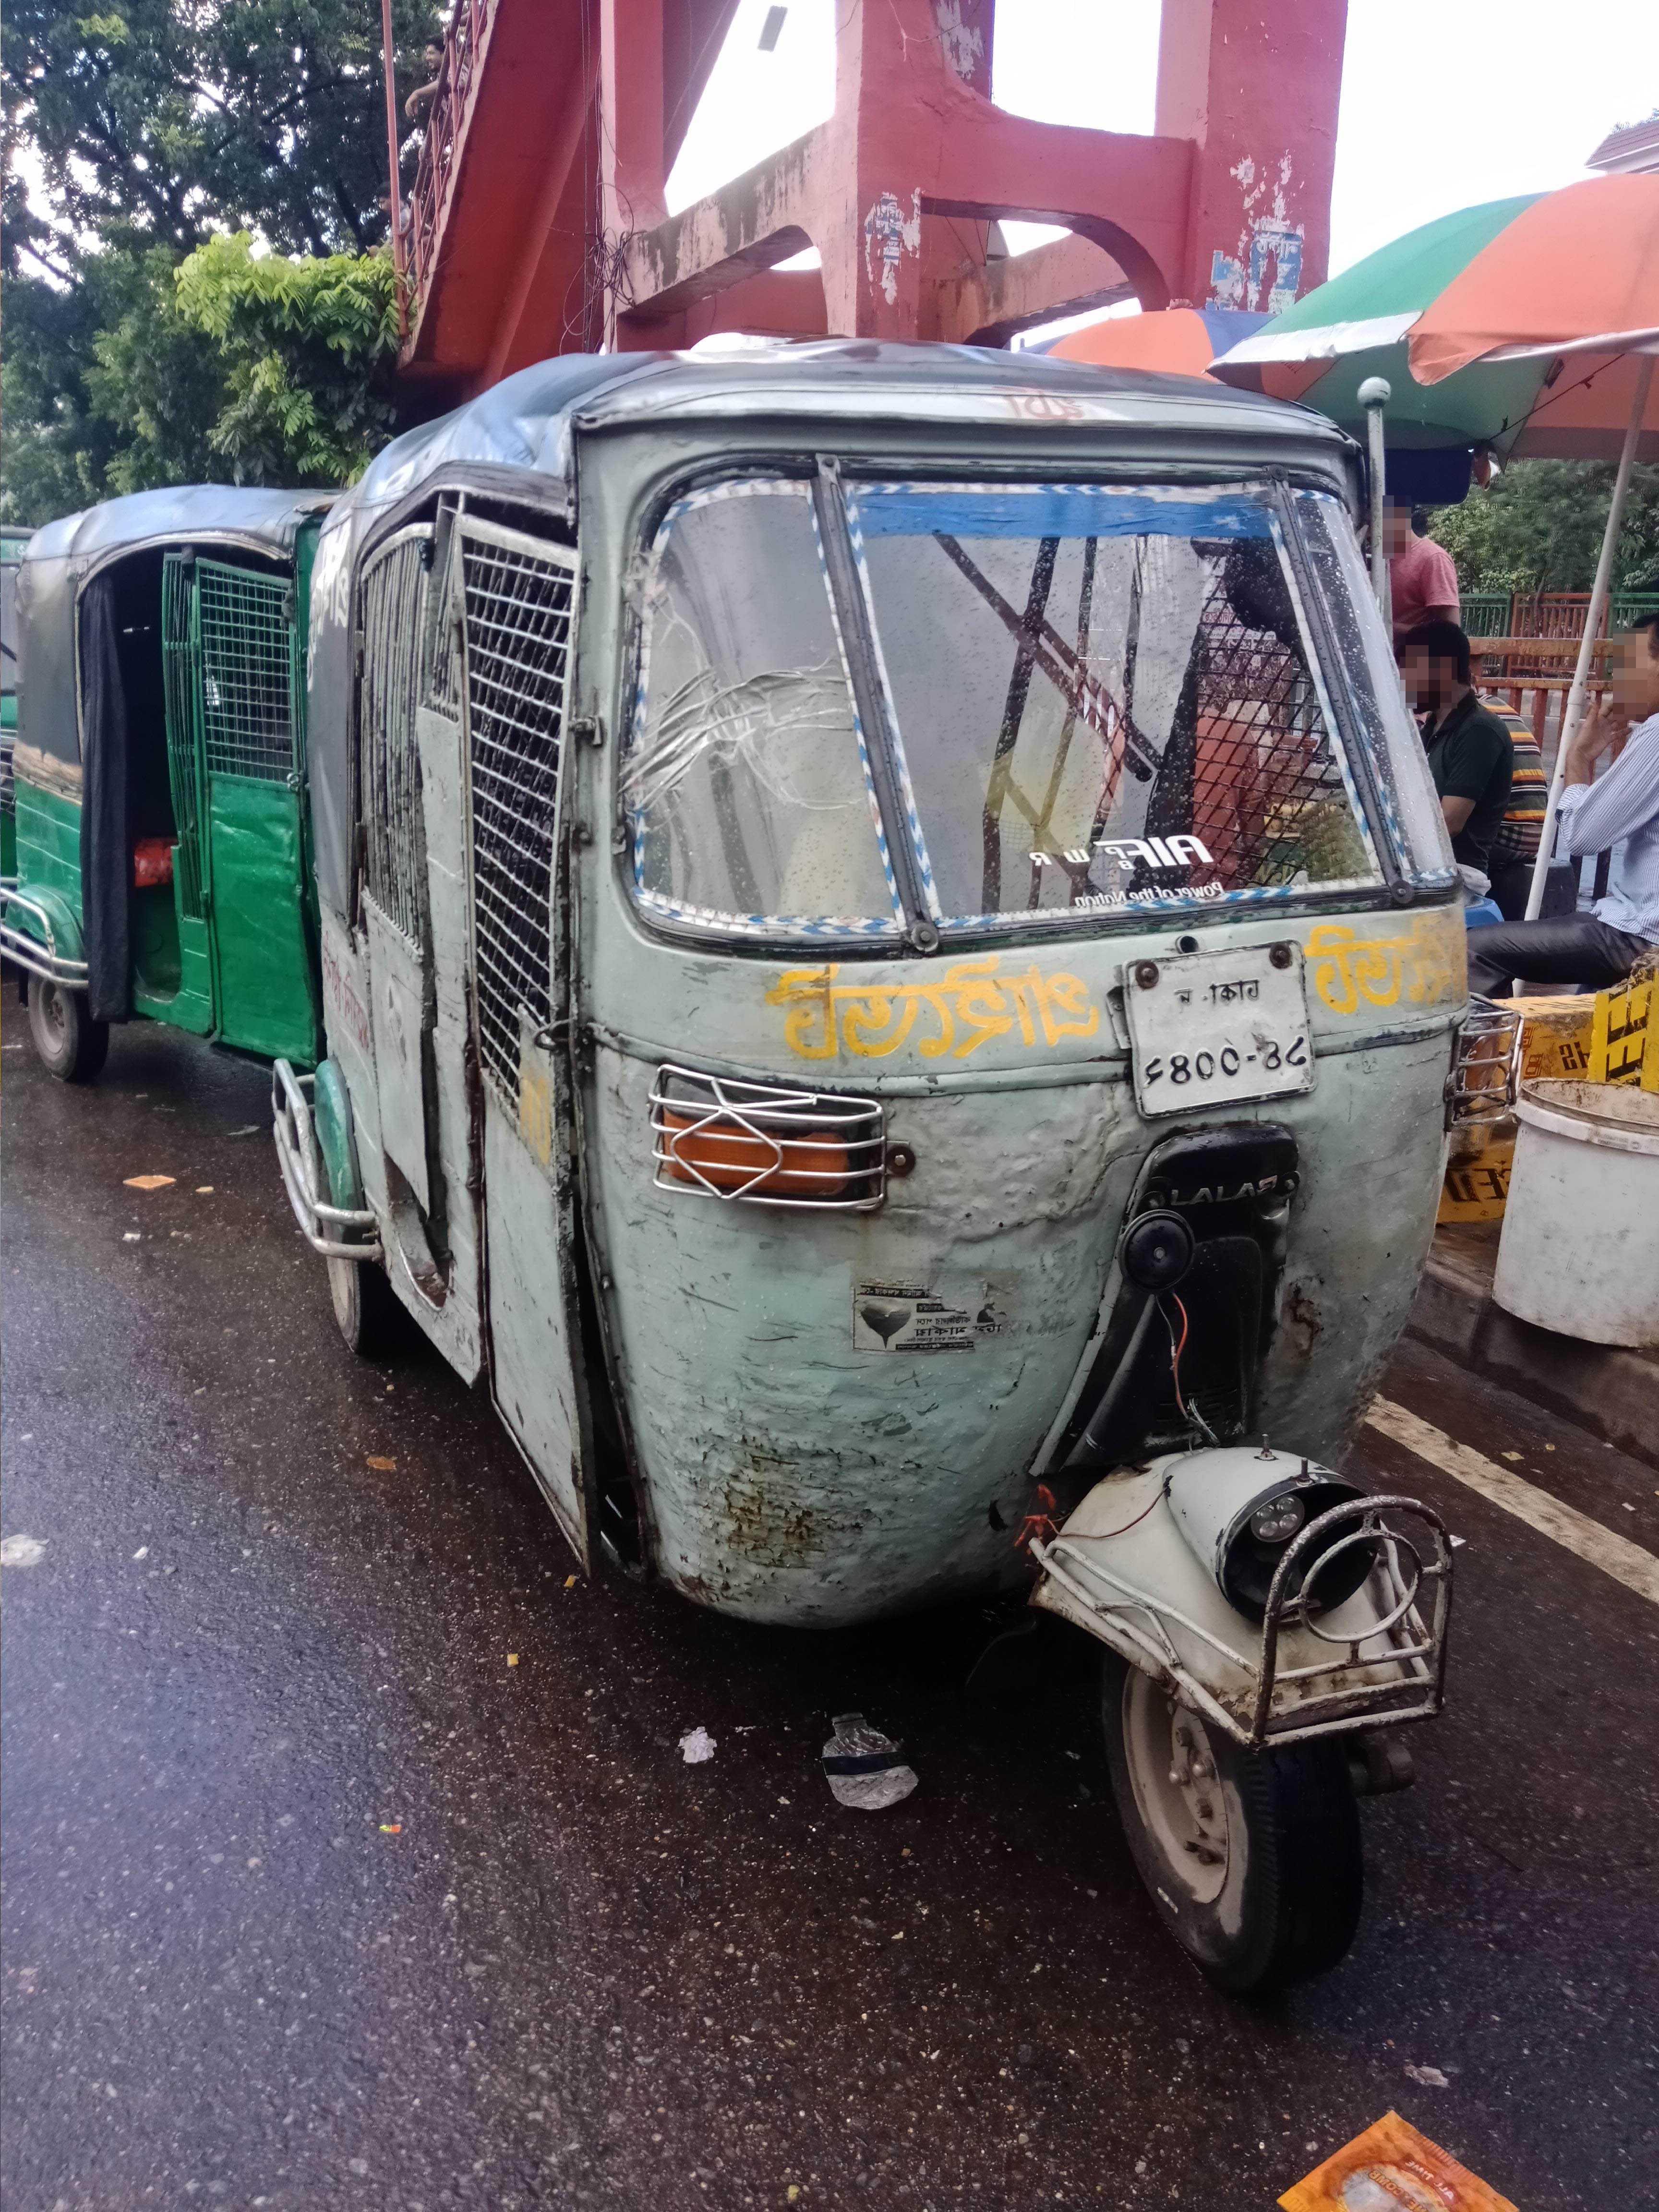cng: (258, 319, 1534, 2026), (0, 462, 336, 1127)
